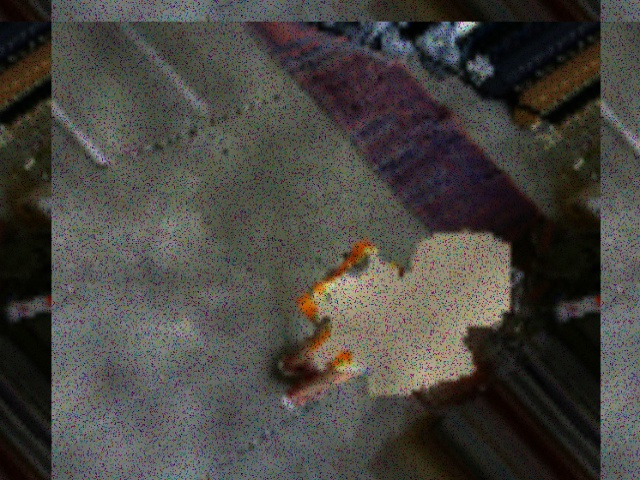three: (441, 255, 495, 302)
